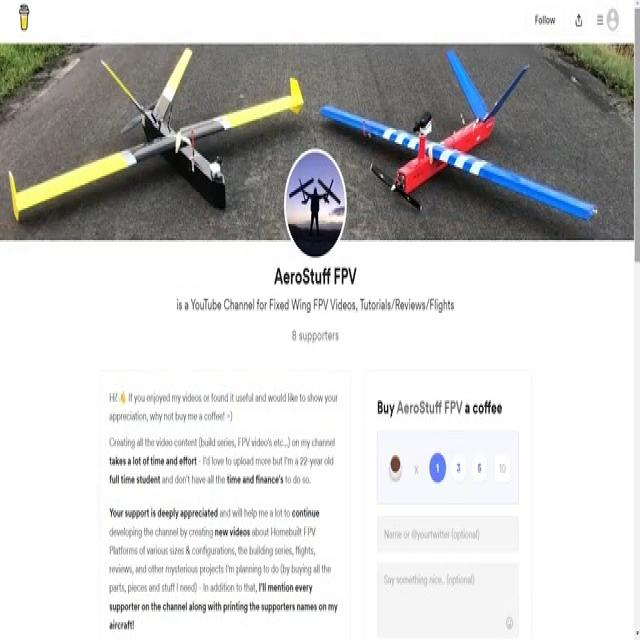iha: (314, 38, 619, 225), (6, 68, 304, 226)
